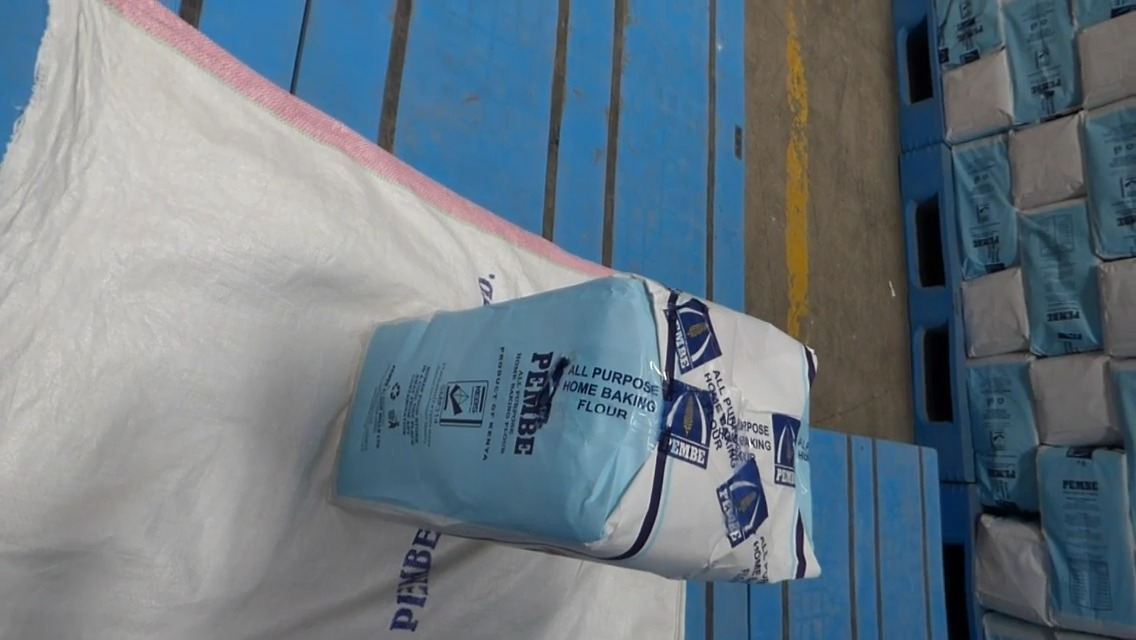wheat_flour_blue_label: (339, 274, 820, 576)
